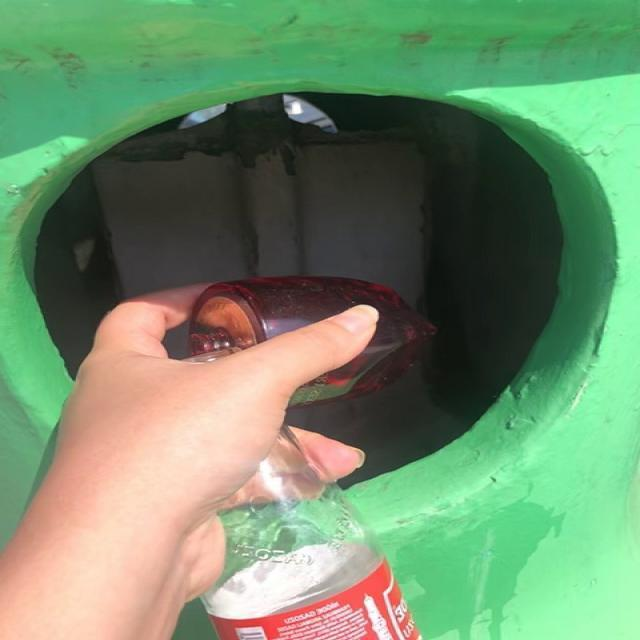Glass: (201, 428, 420, 640), (189, 276, 435, 405)
